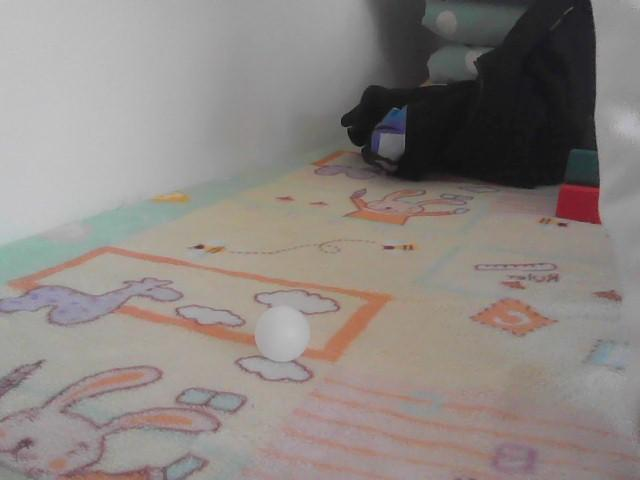ball: (256, 306, 310, 363)
